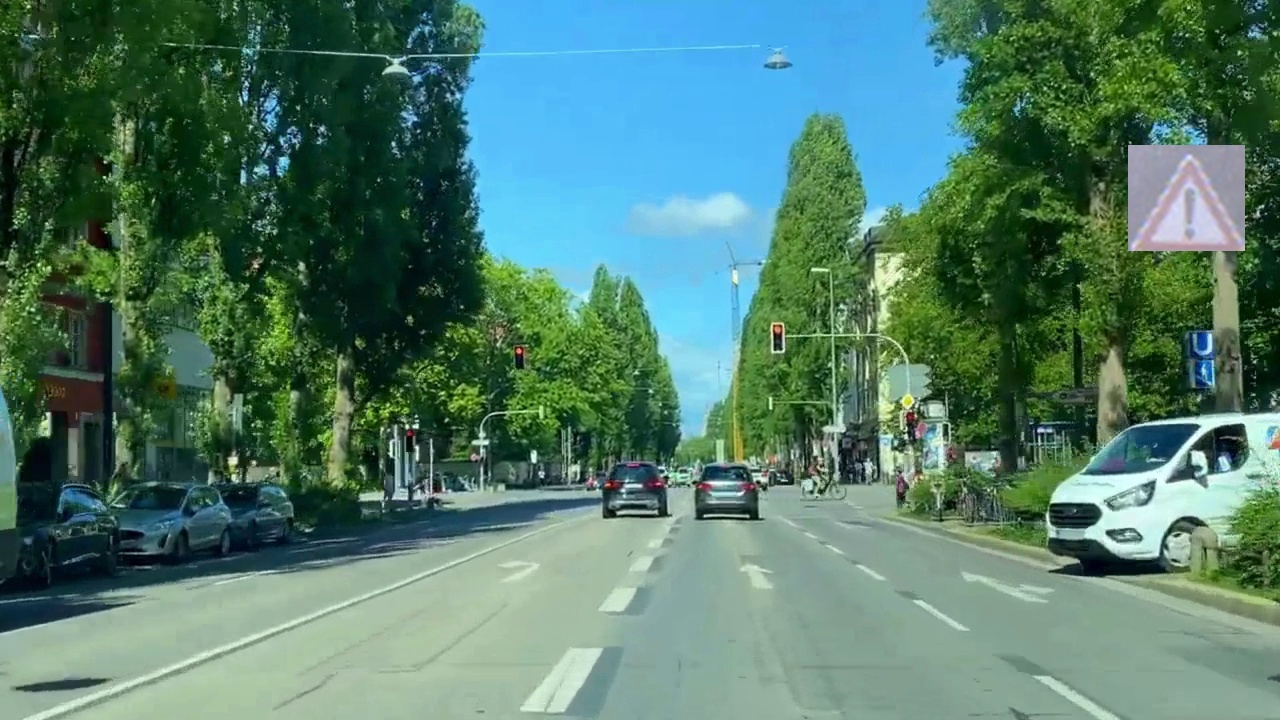Caution: (1128, 145, 1245, 251)
